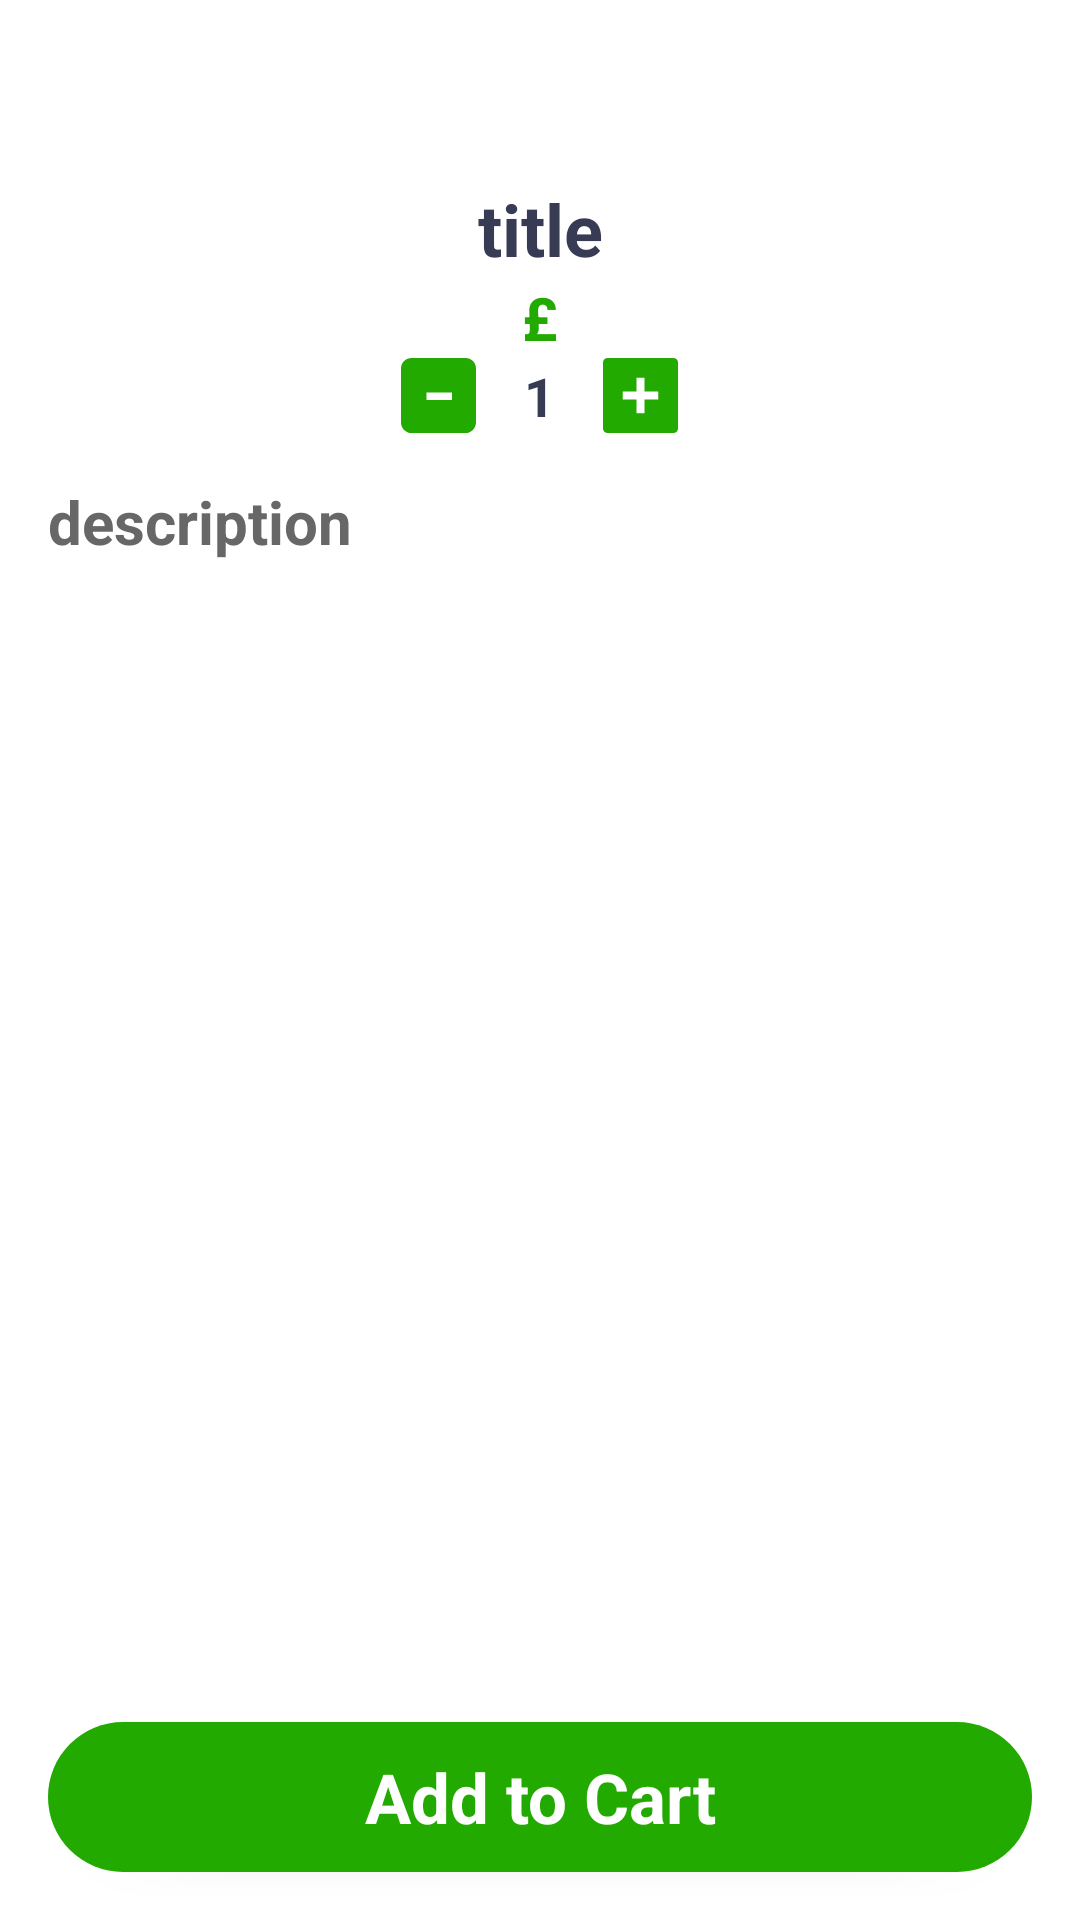

Icon click points for this 1080px×1920px phone screenshot, format (x=x, y=y):
minus: (x=438, y=395)
plus: (x=640, y=395)
